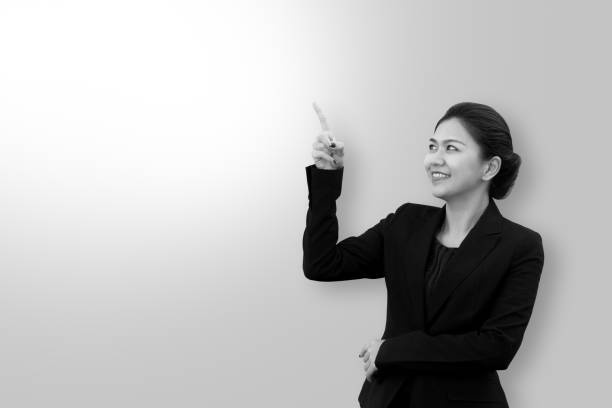pointing_gesture: (301, 97, 351, 168)
